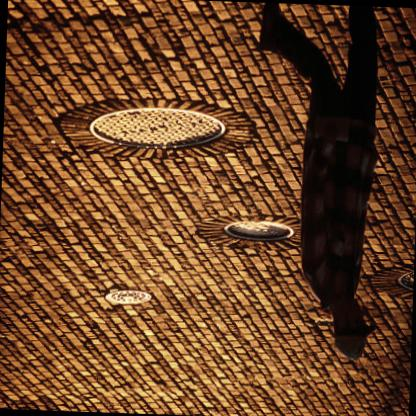manholes: (82, 86, 238, 158), (218, 204, 296, 251), (98, 272, 151, 316), (396, 257, 414, 308)
